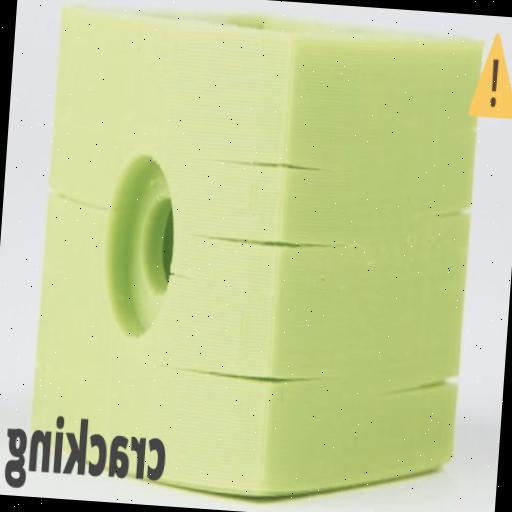cracks: (184, 120, 343, 430)
